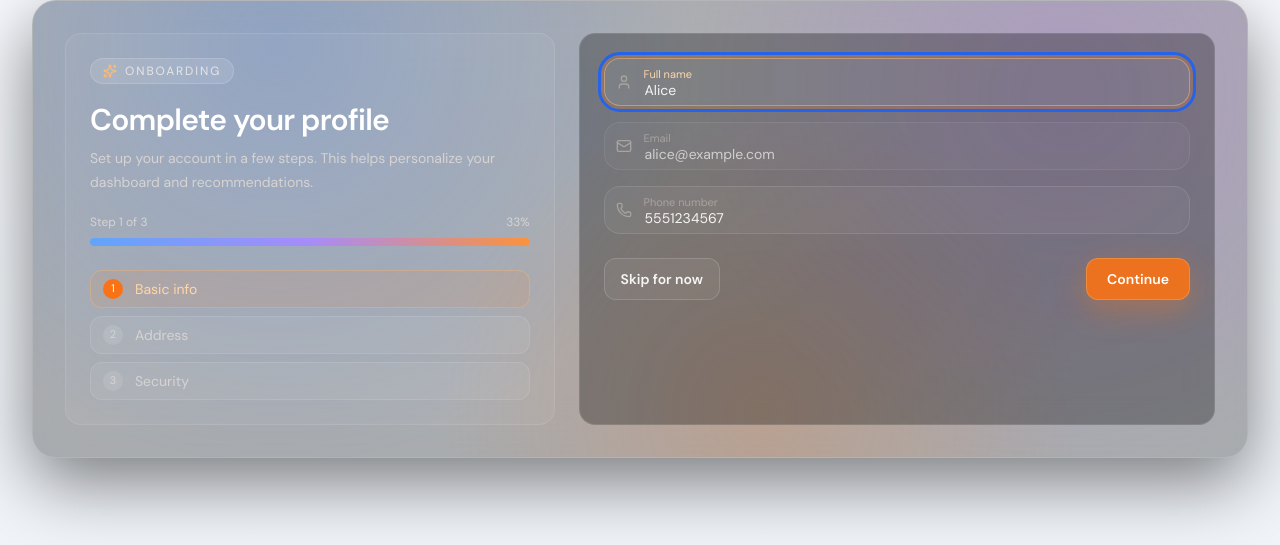
Test case: ProfilePage › advances to step 2 when Continue is clicked
Click the button "Continue" at (1138,279), box [1086,258,1190,300]
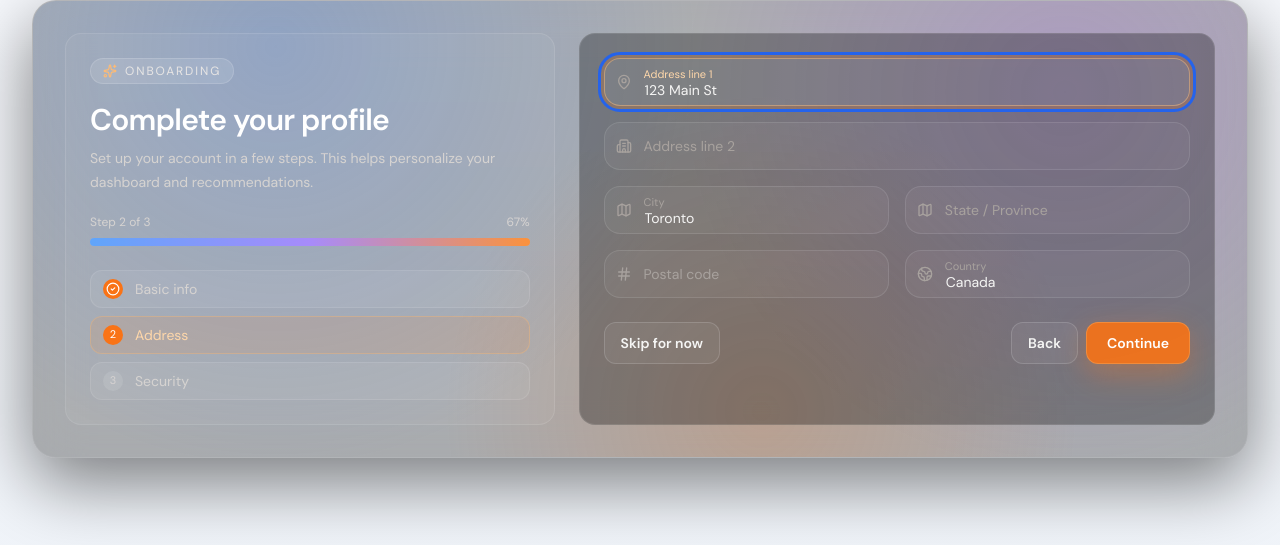
Expected: the text "Address line 1" is shown, [644,64,712,84]
